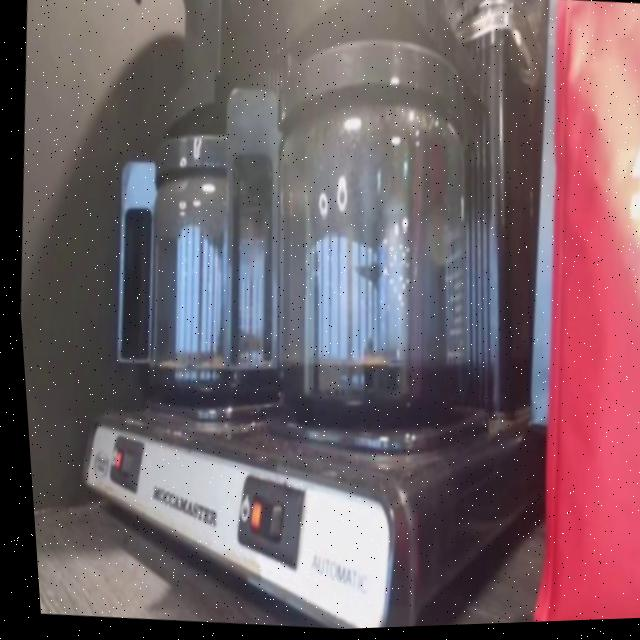coffee: (249, 104, 483, 445), (121, 168, 293, 416)
